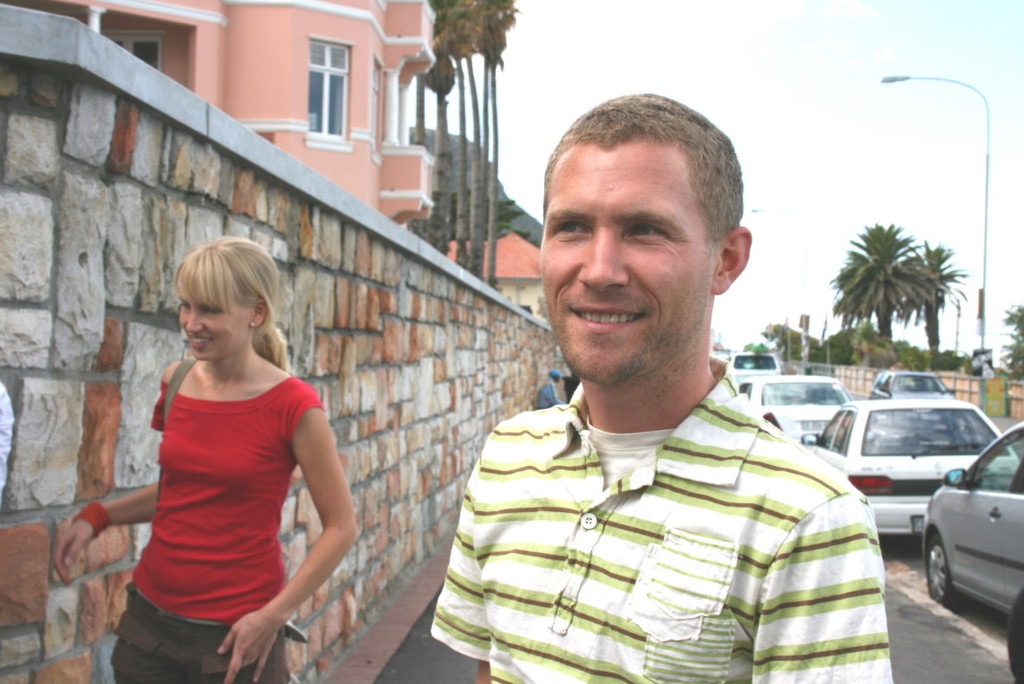Car: (820, 388, 999, 533), (922, 426, 1023, 605), (738, 374, 861, 448), (872, 368, 954, 404), (730, 348, 780, 392)
